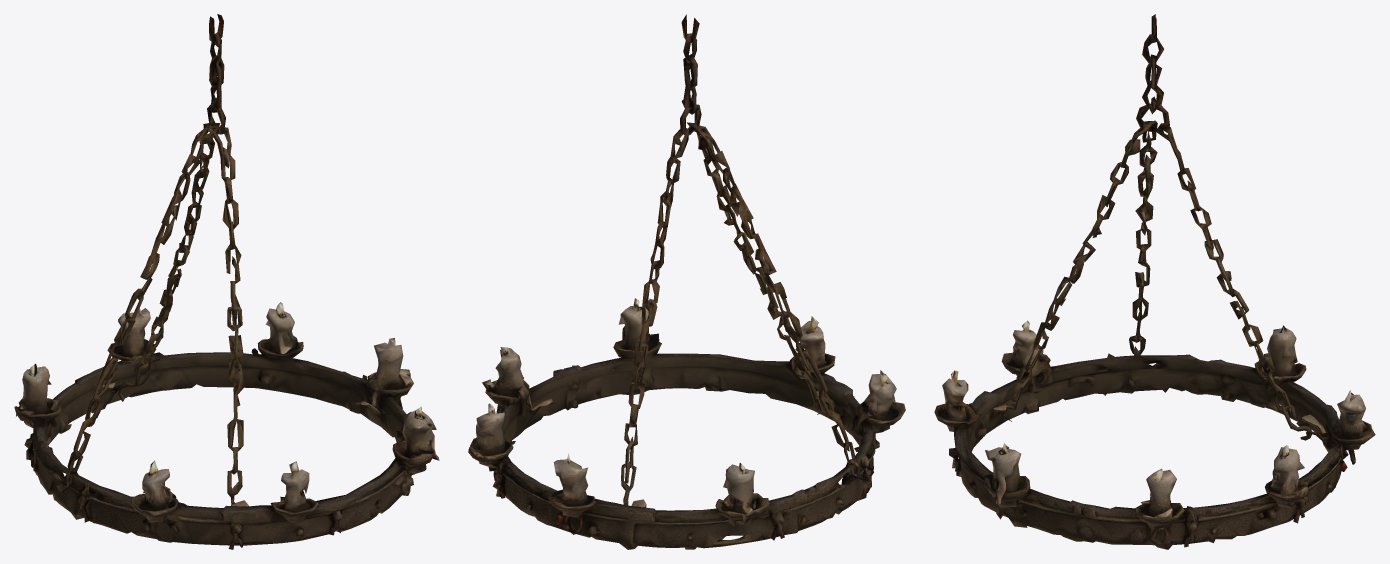
The model's file is chandelier.glb.
3 renders of one model, left to right at view 1: azimuth 30°, elevation 25°; view 2: azimuth 150°, elevation 25°; view 3: azimuth 270°, elevation 25°, orthographic.
Parts seen in each view (by area): view 1: tripo_node_e6ad6e65-18b4-4d25-b138-0e07d0a1ab88; view 2: tripo_node_e6ad6e65-18b4-4d25-b138-0e07d0a1ab88; view 3: tripo_node_e6ad6e65-18b4-4d25-b138-0e07d0a1ab88.
Boxes of the visible parts, x1,y1,x2,y2 form: tripo_node_e6ad6e65-18b4-4d25-b138-0e07d0a1ab88: (14,14,439,549); tripo_node_e6ad6e65-18b4-4d25-b138-0e07d0a1ab88: (468,14,905,549); tripo_node_e6ad6e65-18b4-4d25-b138-0e07d0a1ab88: (934,14,1375,549).
Size of the model in its own units: 0.8507 by 1 by 0.8878.
1 material, 1 textured.
